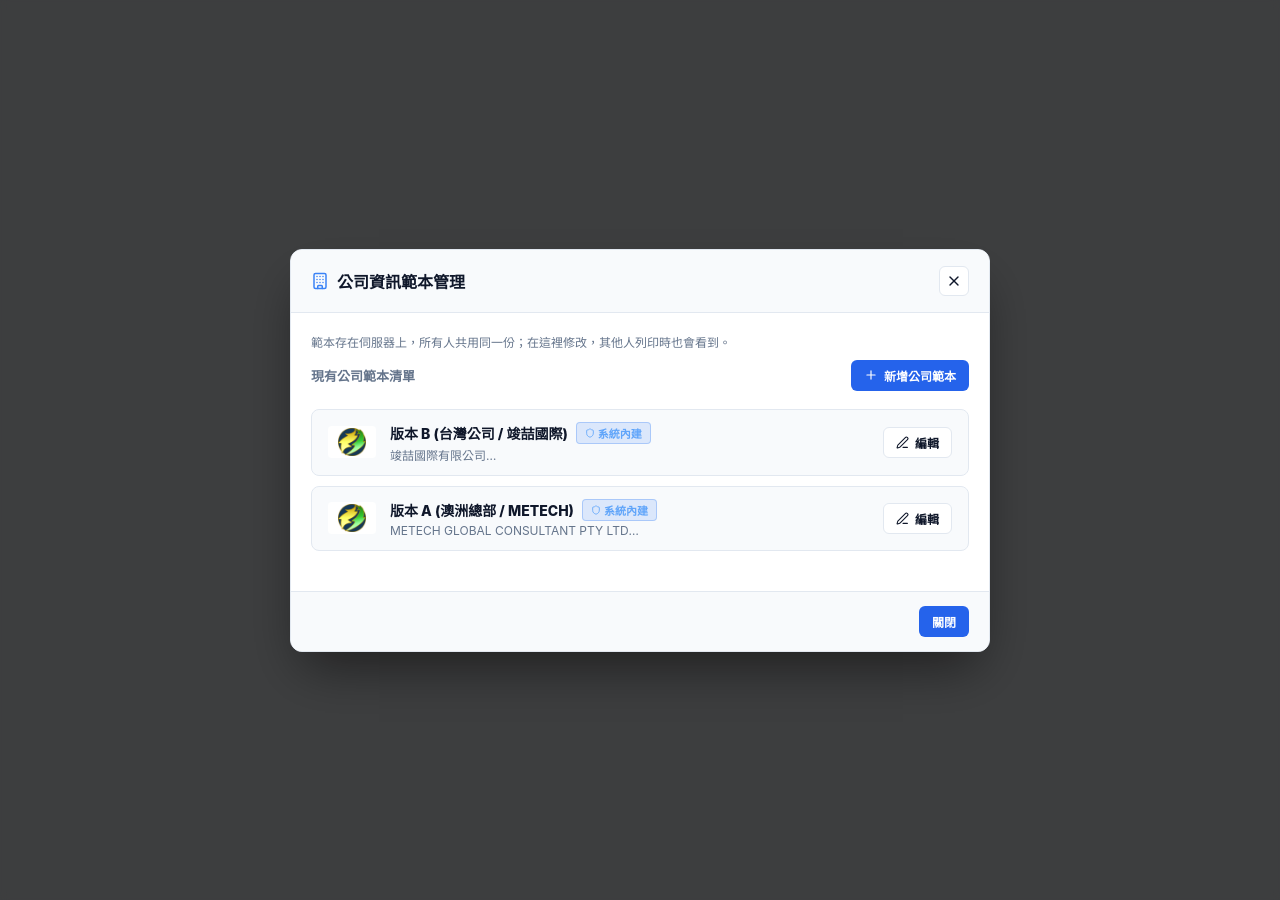
it: 公司資訊範本 (Company Presets) › CompanyPresetModal 應正確列出內建範本，且說明範本是所有人共用
Expected: the heading "公司資訊範本管理" is shown, [311,268,465,292]
Expected: the text "版本 A (澳洲總部 / METECH)" is shown, [390,500,574,520]
Click the button "新增公司範本" at {"x": 910, "y": 375}, box [851,360,969,390]
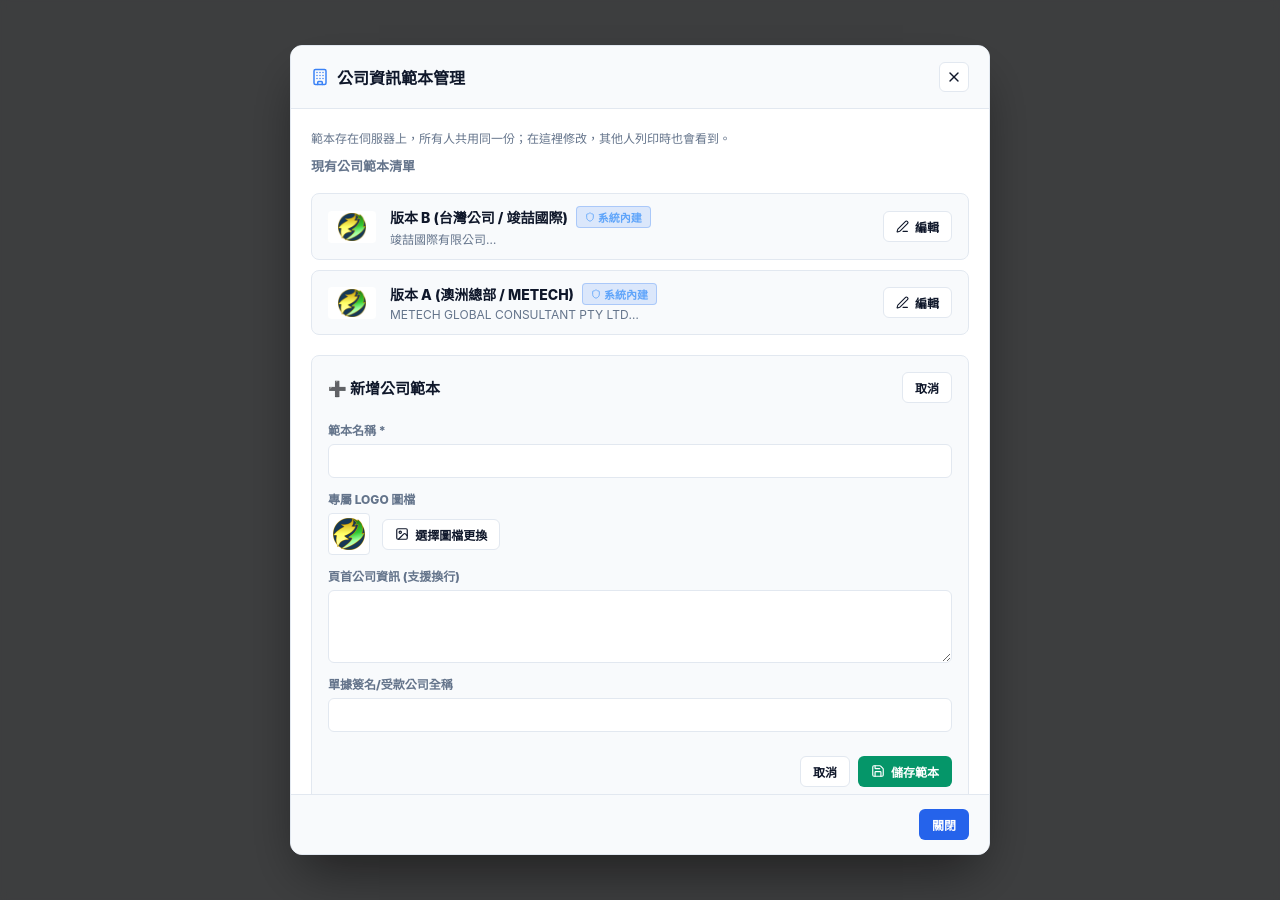
Expected: the text "範本名稱 *" is shown, [328,423,386,438]
Expected: the text "頁首公司資訊 (支援換行)" is shown, [328,569,460,584]
Expected: the text "單據簽名/受款公司全稱" is shown, [328,677,453,692]
